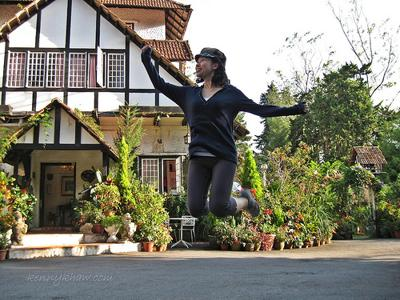person: (142, 42, 310, 222)
